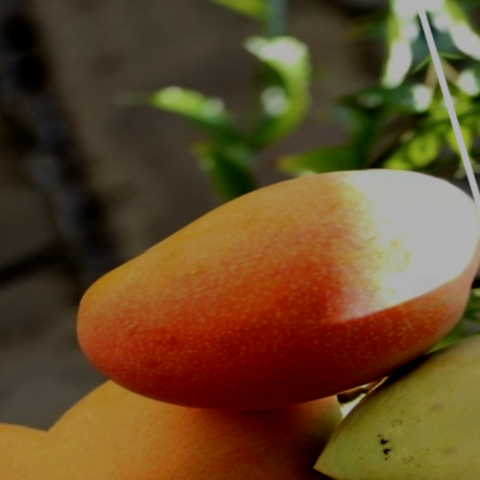mango: (6, 111, 480, 480)
